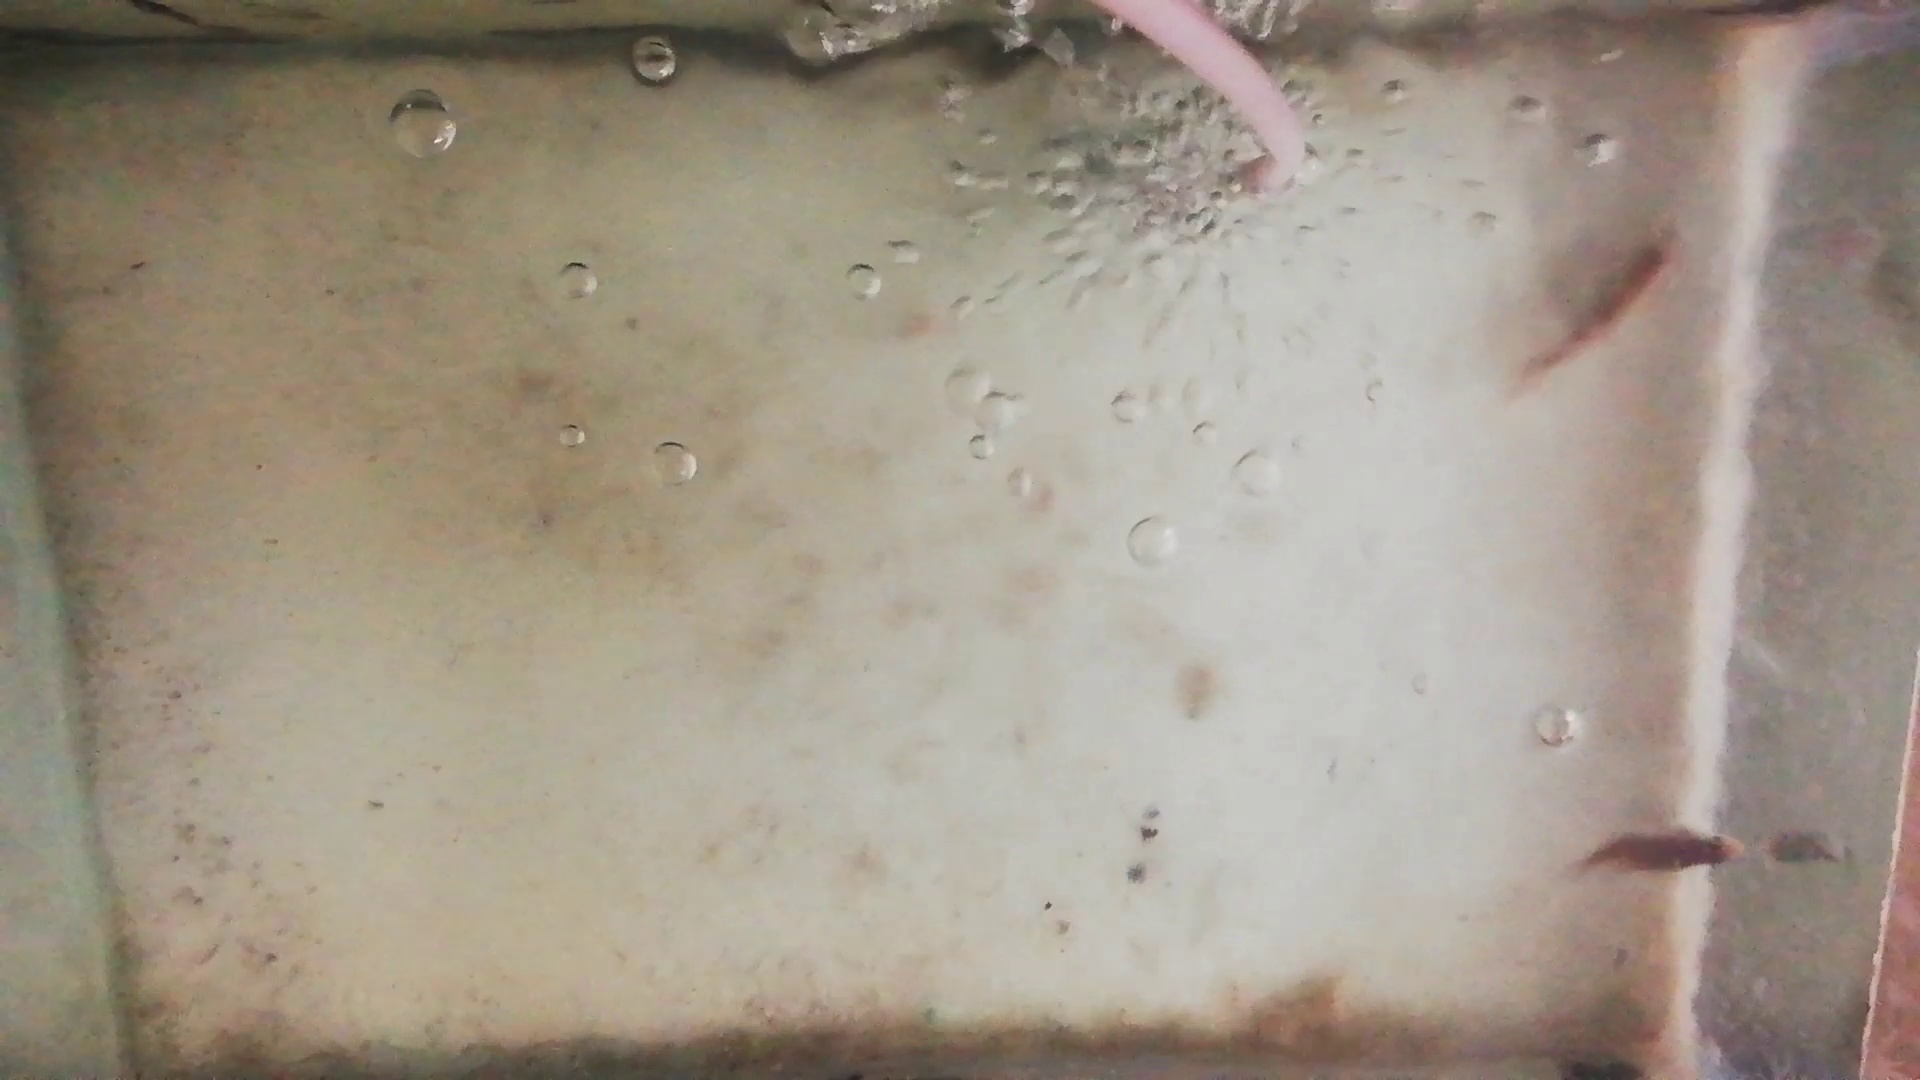fish: (1524, 222, 1687, 385), (1582, 829, 1746, 872)
